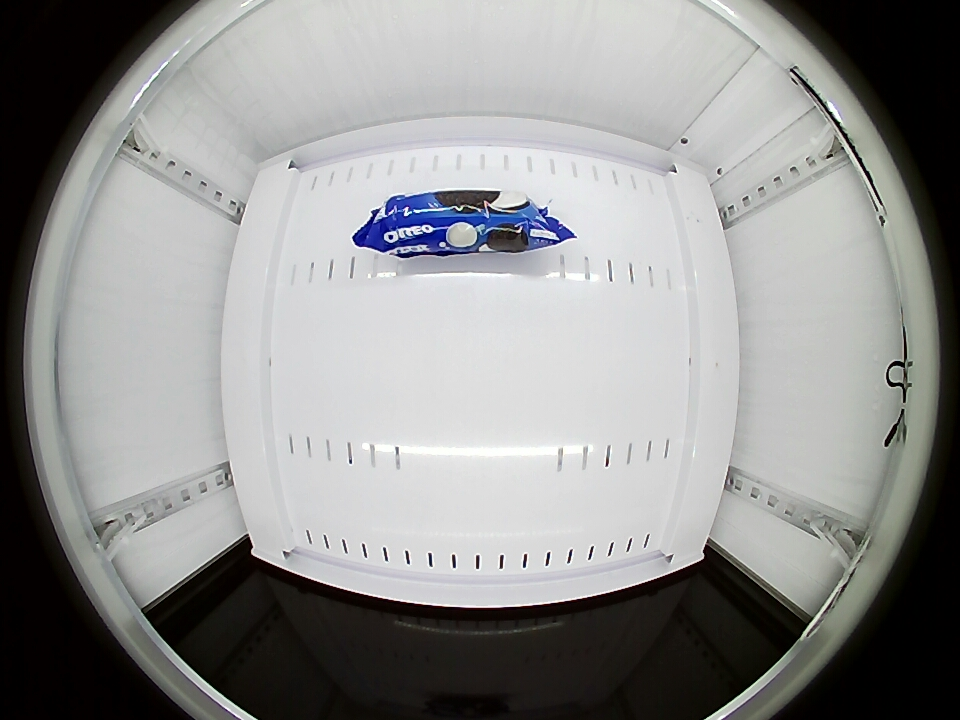aoliao: (361, 189, 563, 258)
